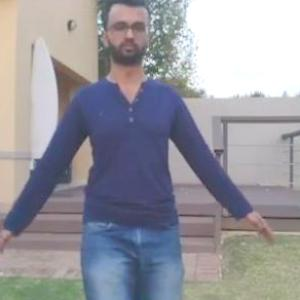land: (7, 41, 232, 299)
